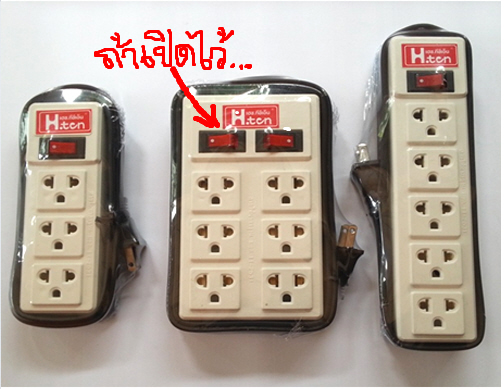Three_eye_plug: (172, 83, 330, 325), (382, 31, 485, 351), (13, 98, 111, 317)
